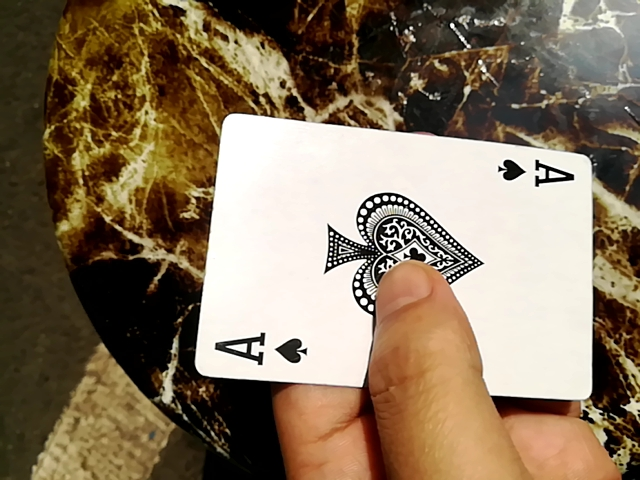ht a: (207, 117, 586, 395)
